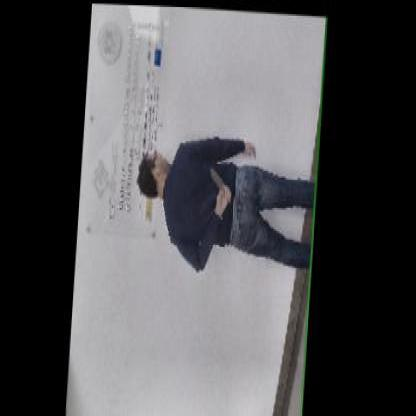knife: (207, 160, 235, 201)
